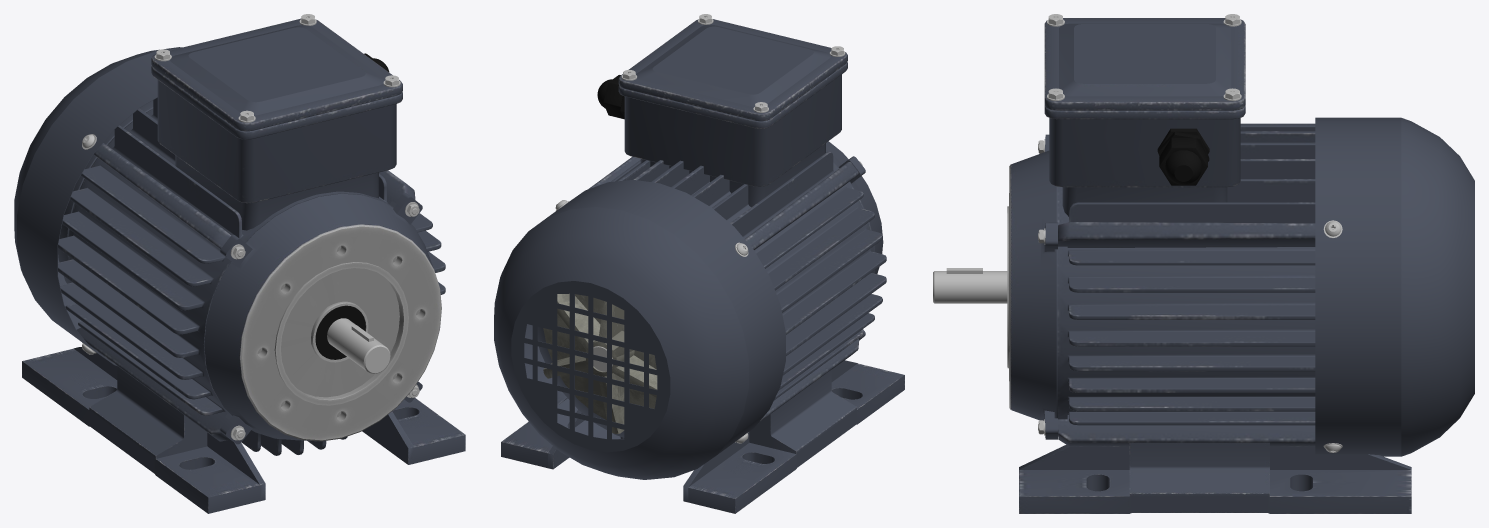
Rendered from engine.glb.
3 views of the same model, side by side, from view 1: azimuth 30°, elevation 25°; view 2: azimuth 150°, elevation 25°; view 3: azimuth 270°, elevation 25° (orthographic). The views are drawn at different scales.
Parts seen in each view (by area): view 1: defaultMaterial; view 2: defaultMaterial; view 3: defaultMaterial.
Part boxes in pixels (left/top/right/bottom): defaultMaterial: left=14, top=14, right=465, bottom=513; defaultMaterial: left=494, top=14, right=904, bottom=513; defaultMaterial: left=933, top=14, right=1474, bottom=513.
Size of the model in its own units: 1.25 by 1.6 by 2.
3 materials, 3 textured.
